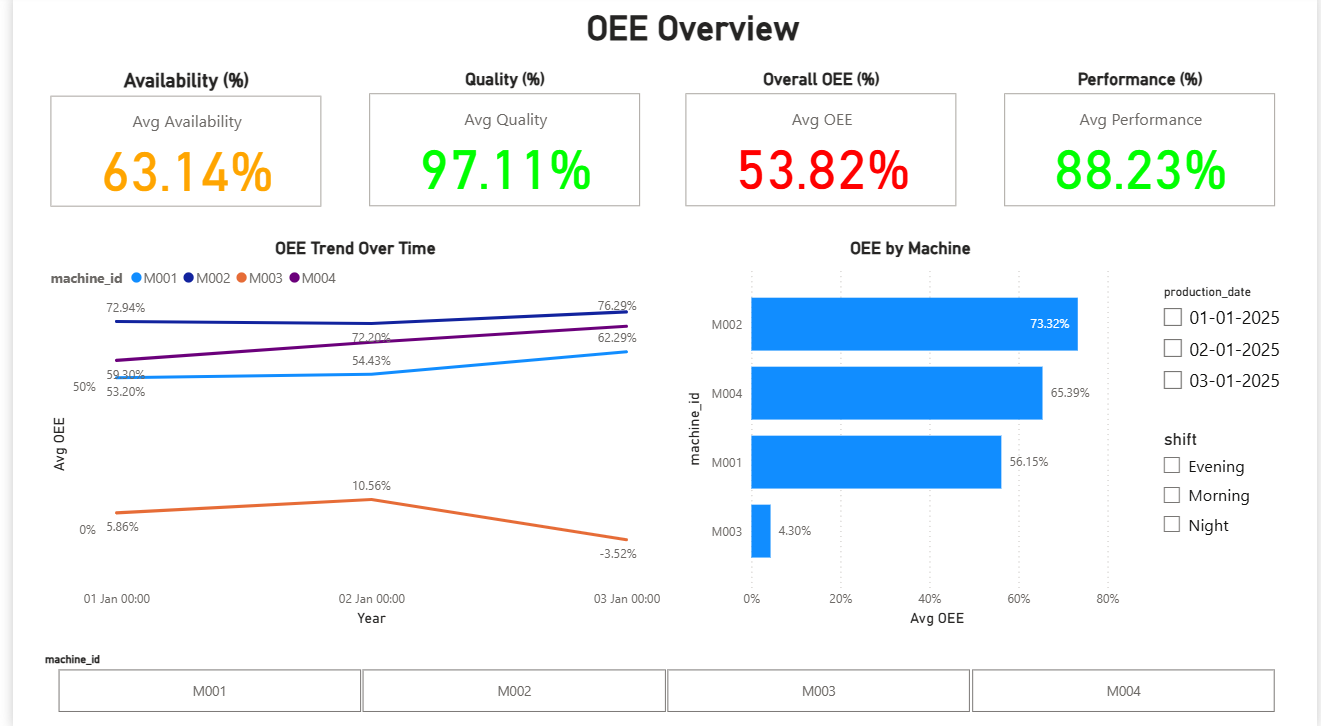

This screenshot's page, from the dashboard's own definition file:
{"tool":"powerbi","page":{"name":"OEE Overview","canvas":[1280,720],"ordinal":0},"visuals":[{"type":"cardVisual","title":"Overall OEE (%)","fields":{"Data":["oee_powerbi.Avg OEE"]},"box":[655.2,72.4,276.1,141.1],"z":0},{"type":"cardVisual","title":"Availability (%)","fields":{"Data":["oee_powerbi.Avg Availability"]},"box":[31.9,72.4,276.1,141.1],"z":1000},{"type":"cardVisual","title":"Performance (%)","fields":{"Data":["oee_powerbi.Avg Performance"]},"box":[968.1,72.4,276.1,141.1],"z":2000},{"type":"cardVisual","title":"Quality (%)","fields":{"Data":["oee_powerbi.Avg Quality"]},"box":[344.8,72.4,276.1,141.1],"z":3000},{"type":"lineChart","title":"OEE Trend Over Time","fields":{"Y":["oee_powerbi.Avg OEE"],"Category":["oee_powerbi.production_date.Variation.Date Hierarchy.Year","oee_powerbi.production_date.Variation.Date Hierarchy.Quarter","oee_powerbi.production_date.Variation.Date Hierarchy.Month","oee_powerbi.production_date.Variation.Date Hierarchy.Day"],"Series":["oee_powerbi.machine_id"]},"box":[31.9,238,608.6,386.5],"z":4000},{"type":"clusteredBarChart","title":"OEE by Machine","fields":{"Category":["oee_powerbi.machine_id"],"Y":["oee_powerbi.Avg OEE"]},"box":[655.2,238,451.5,386.5],"z":5000},{"type":"slicer","fields":{"Values":["oee_powerbi.shift"]},"box":[1116.6,420.9,146,126.4],"z":6000},{"type":"slicer","fields":{"Values":["oee_powerbi.production_date"]},"box":[1116.6,279.8,139.9,119],"z":7000},{"type":"slicer","fields":{"Values":["oee_powerbi.machine_id"]},"box":[18.4,640.5,1244.2,69.9],"z":8000},{"type":"textbox","box":[558.3,8.6,281,47.9],"z":9000}]}

Visuals, with their boxes in screenshot pixels (x1, y1, x2, y2), scaled from the page's 1280x720 canvas onto the 1321x726 screenshot:
"Overall OEE (%)" cardVisual: select_region(676, 73, 961, 215)
"Availability (%)" cardVisual: select_region(33, 73, 318, 215)
"Performance (%)" cardVisual: select_region(999, 73, 1284, 215)
"Quality (%)" cardVisual: select_region(356, 73, 641, 215)
"OEE Trend Over Time" lineChart: select_region(33, 240, 661, 630)
"OEE by Machine" clusteredBarChart: select_region(676, 240, 1142, 630)
slicer - oee_powerbi.shift: select_region(1152, 424, 1303, 552)
slicer - oee_powerbi.production_date: select_region(1152, 282, 1297, 402)
slicer - oee_powerbi.machine_id: select_region(19, 646, 1303, 716)
textbox: select_region(576, 9, 866, 57)
